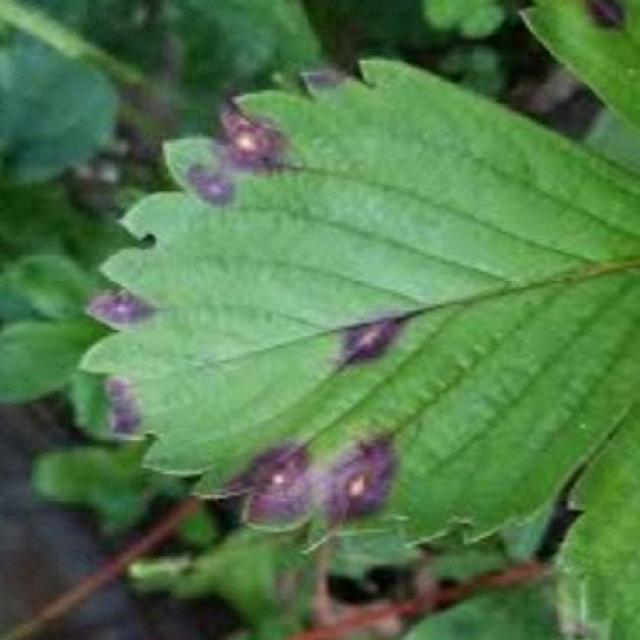Leaf Spot: (74, 60, 638, 554)
